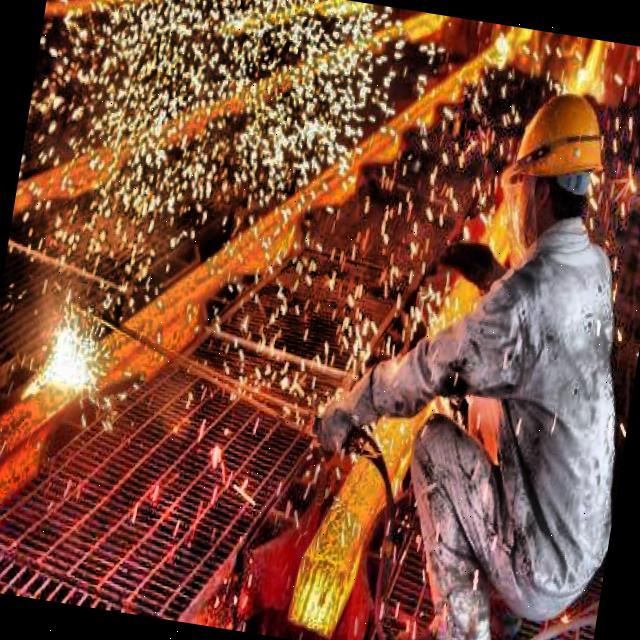helmet: (494, 75, 614, 262)
